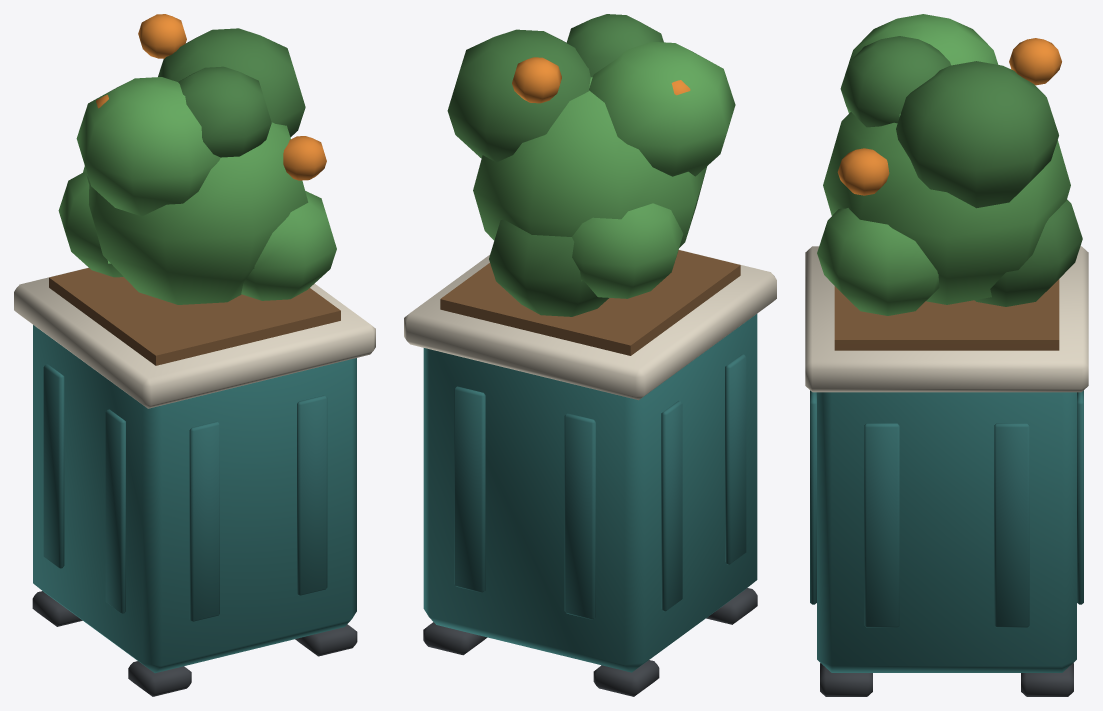
File: Planter_Tall_01.glb
The picture shows the model from 3 angles, left to right: view 1: azimuth 30°, elevation 25°; view 2: azimuth 150°, elevation 25°; view 3: azimuth 270°, elevation 25°; orthographic projection. The views are drawn at different scales.
Parts seen in each view (by area): view 1: SM_Planter_Tall_01; view 2: SM_Planter_Tall_01; view 3: SM_Planter_Tall_01.
Part boxes in pixels (box(x1,y1,x2,y2)): SM_Planter_Tall_01: box(14, 14, 375, 696); SM_Planter_Tall_01: box(404, 14, 776, 696); SM_Planter_Tall_01: box(805, 14, 1088, 696).
Bounding box in the file's own units: 0.49 × 1.14 × 0.48.
1 material, 1 textured.
